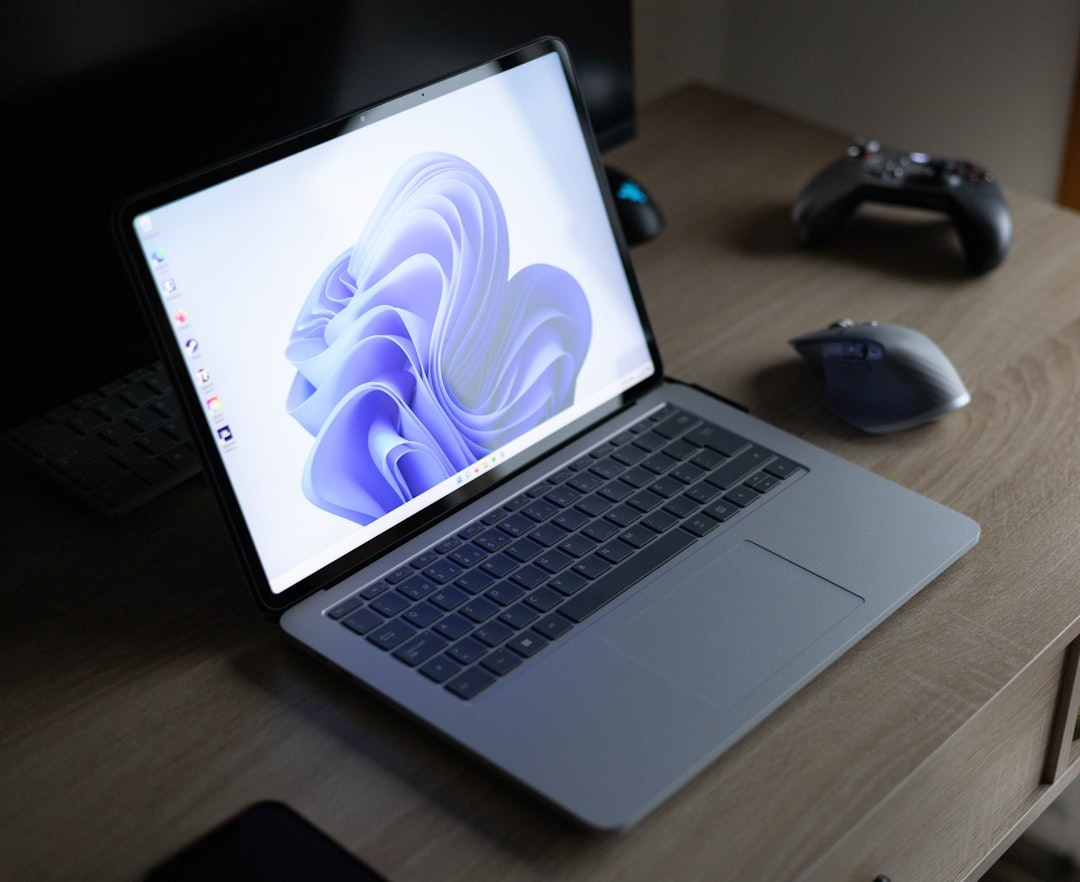laptop: (69, 32, 1044, 831)
